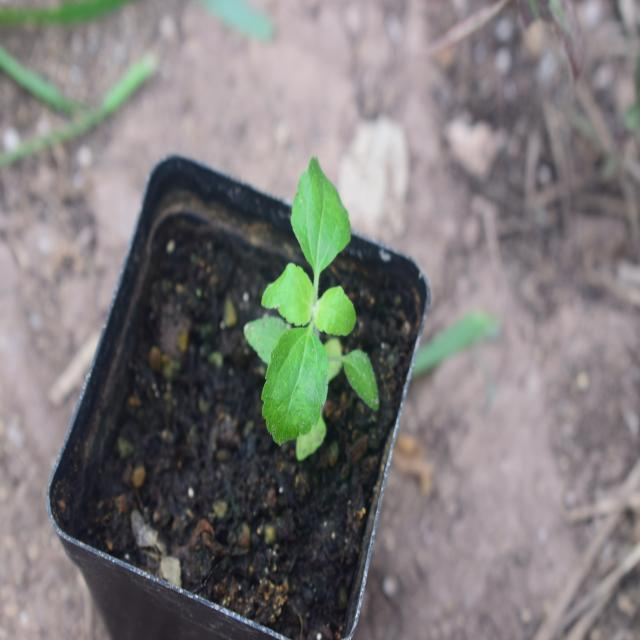billygoat_weed: (241, 136, 390, 449)
